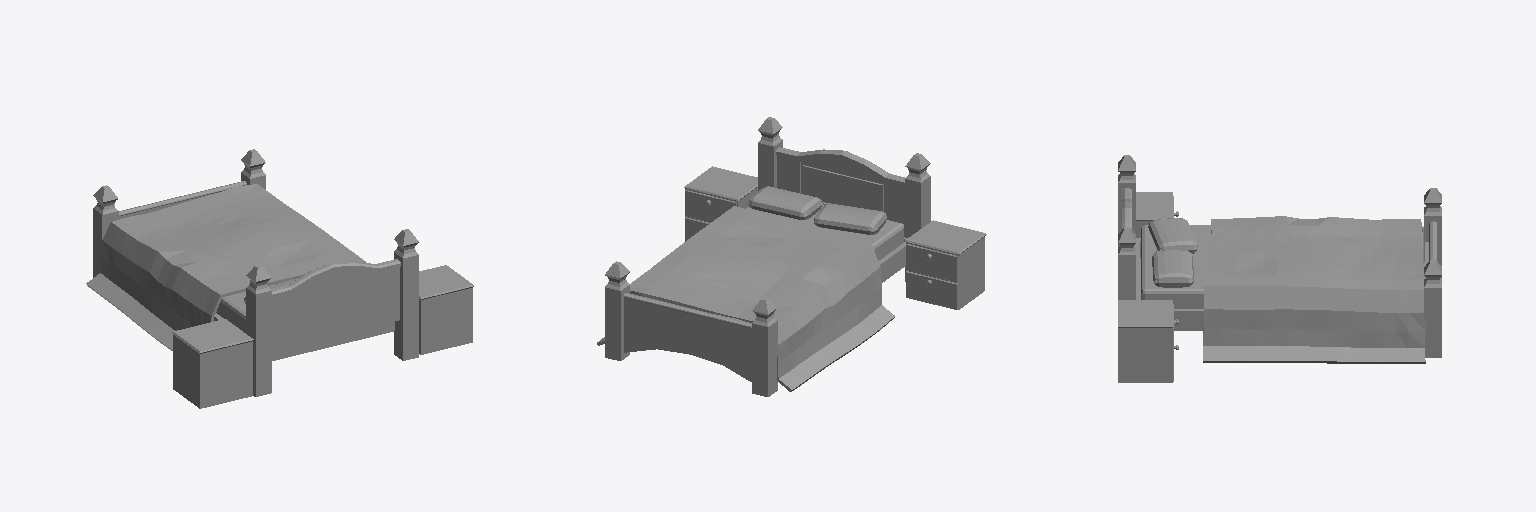
File: bed.obj
The picture shows the model from 3 angles: view 1: azimuth 30°, elevation 25°; view 2: azimuth 150°, elevation 25°; view 3: azimuth 270°, elevation 25°; orthographic projection.
Parts seen in each view (by area): view 1: Cube.004_Cube.007; view 2: Cube.004_Cube.007; view 3: Cube.004_Cube.007.
Part boxes in pixels (bbox=[...]): Cube.004_Cube.007: bbox=[86, 149, 473, 408]; Cube.004_Cube.007: bbox=[597, 117, 986, 396]; Cube.004_Cube.007: bbox=[1118, 155, 1441, 382].
Size of the model in its own units: 2.8 by 1.23 by 2.86.